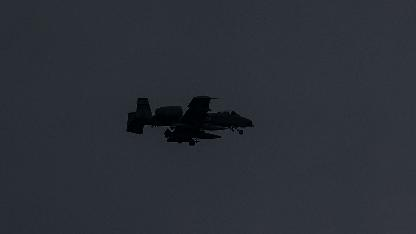A10: (126, 95, 254, 145)
